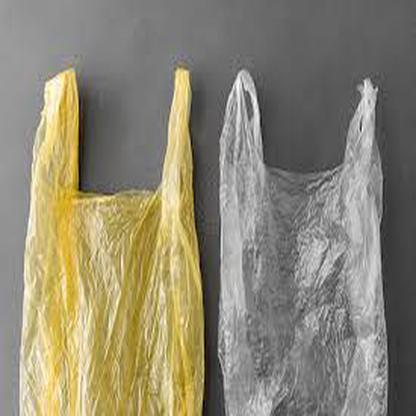plastic bag: (19, 63, 205, 416), (218, 67, 391, 416)
